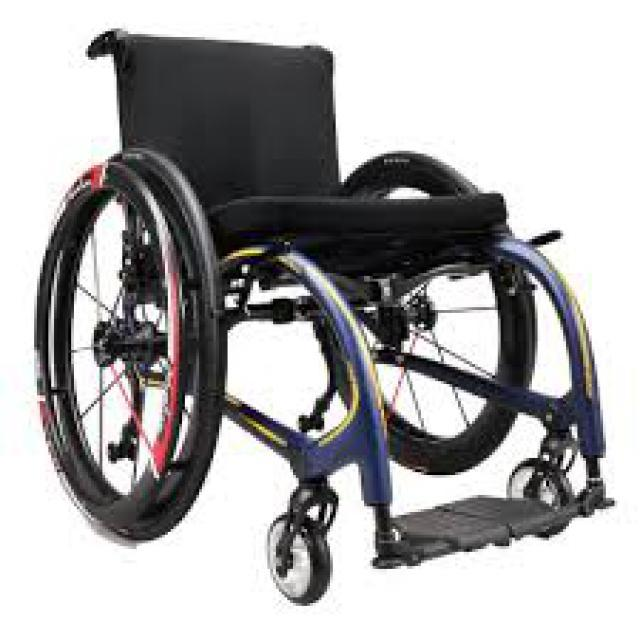wheelchair: (31, 26, 637, 604)
